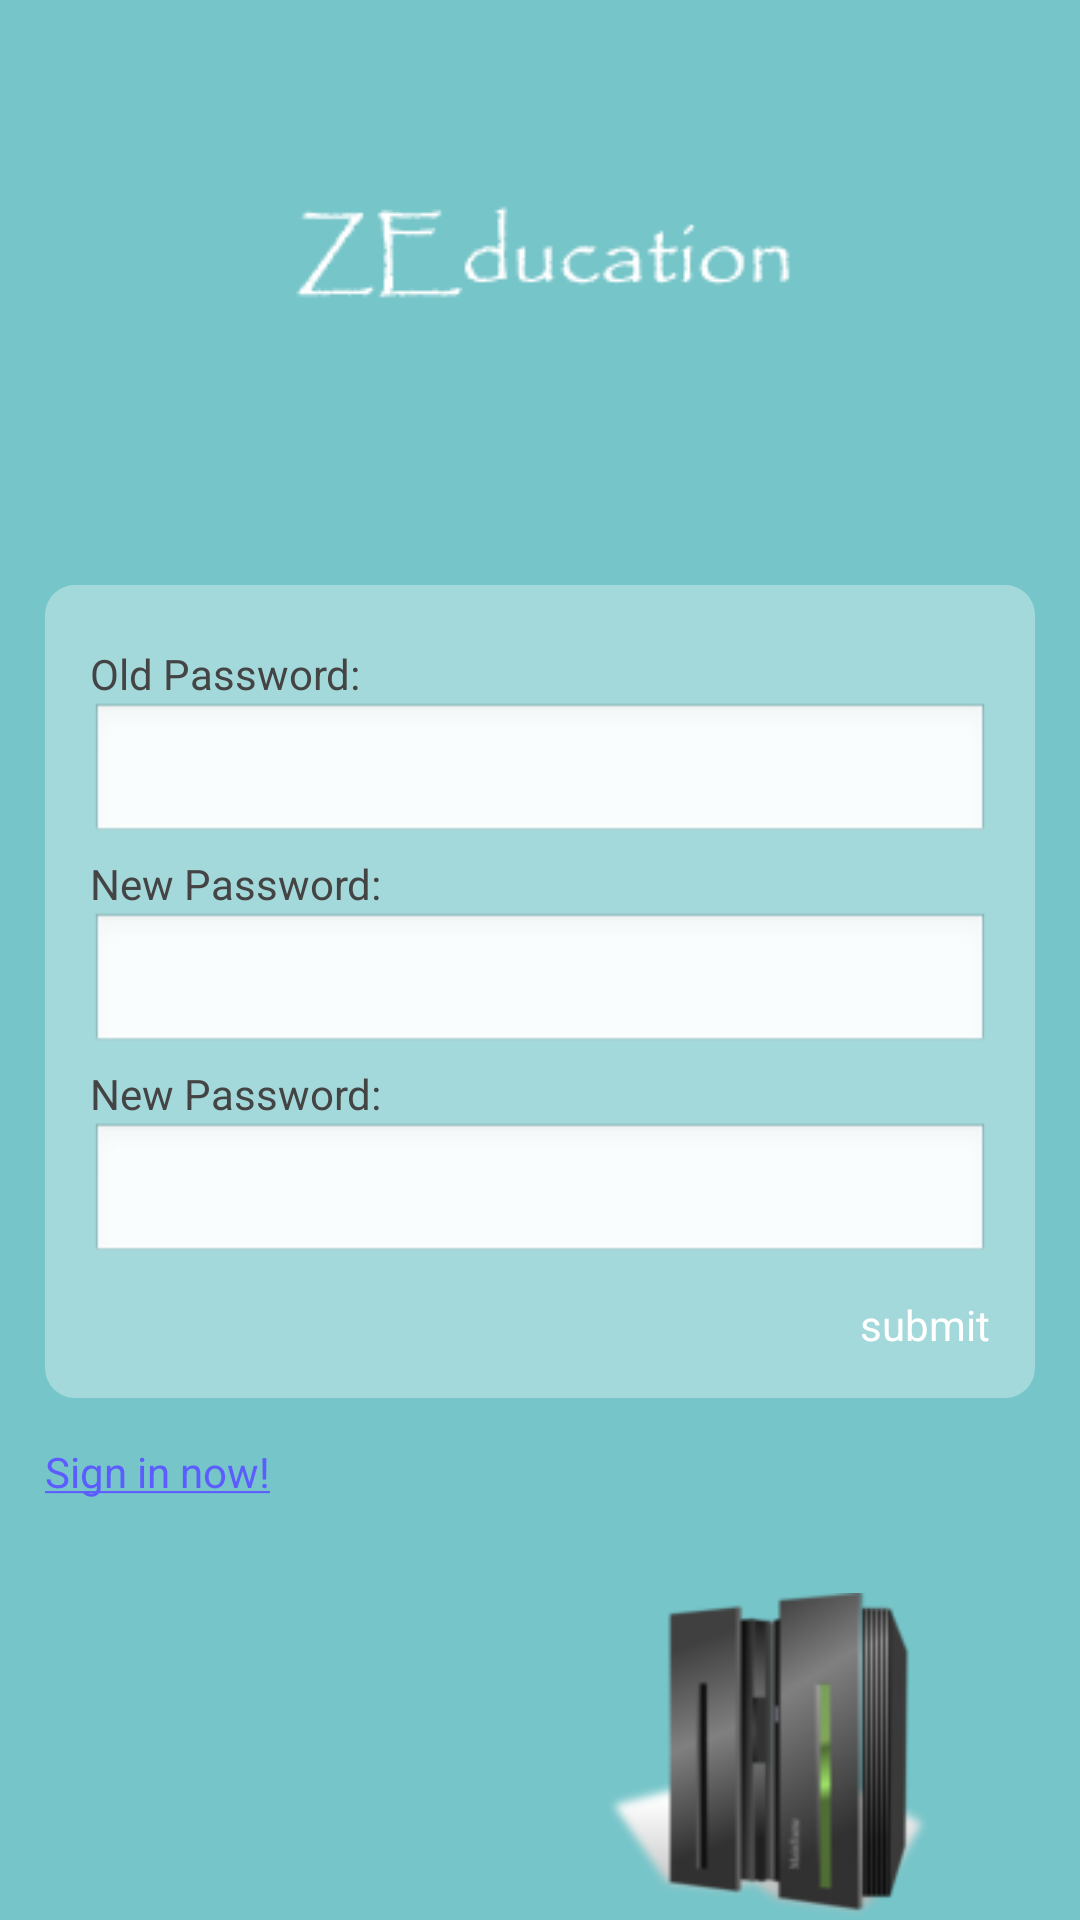

Icons on this 1080w x 1920h Android screen, each with the point to tap as point (x, y):
mainframe: point (768, 1752)
